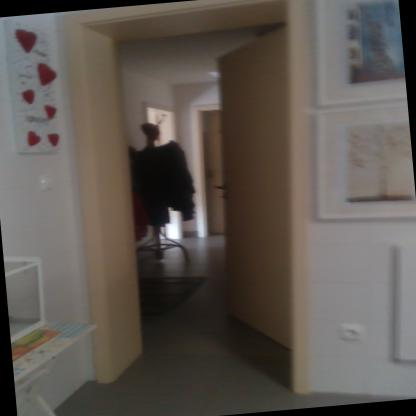semi: (63, 0, 325, 408)
